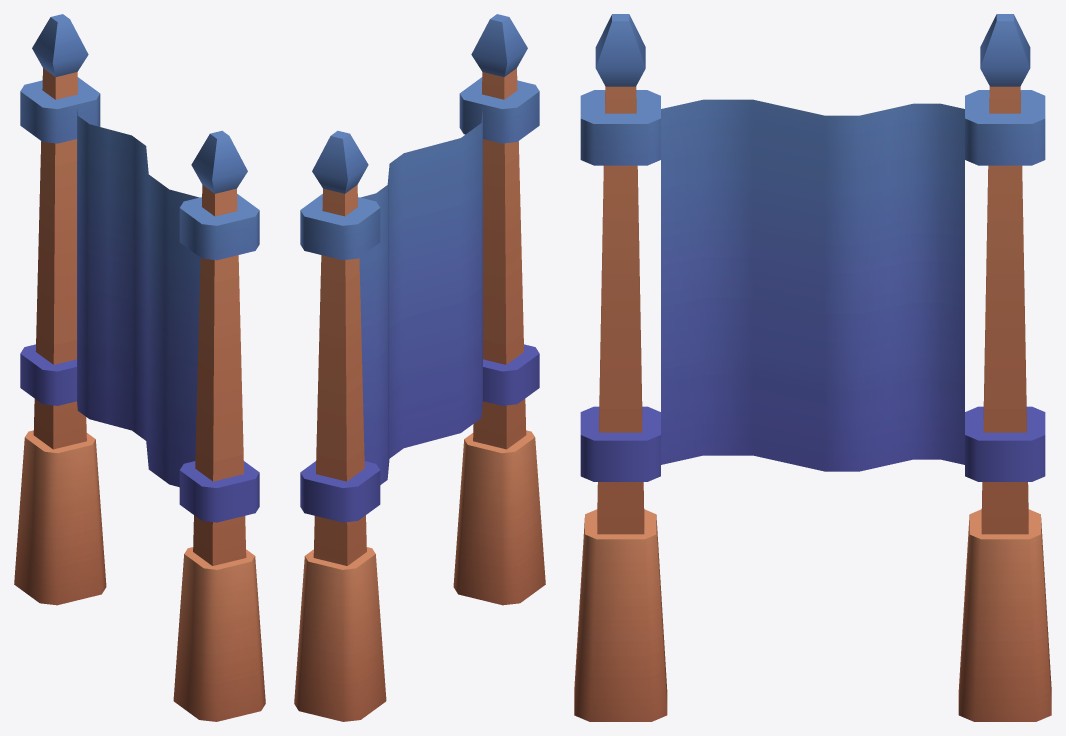
Rendered from k-castle-flag-wide.glb.
3 renders of one model, left to right at view 1: azimuth 30°, elevation 25°; view 2: azimuth 150°, elevation 25°; view 3: azimuth 270°, elevation 25°, orthographic. The views are drawn at different scales.
Parts seen in each view (by area): view 1: flag-wide; view 2: flag-wide; view 3: flag-wide.
Boxes of the visible parts, <box> form: flag-wide: <box>14,14,265,721</box>; flag-wide: <box>294,14,545,721</box>; flag-wide: <box>574,14,1051,721</box>.
Size of the model in its own units: 0.1064 by 0.8656 by 0.5469.
Materials: 1 (1 with a texture image).
